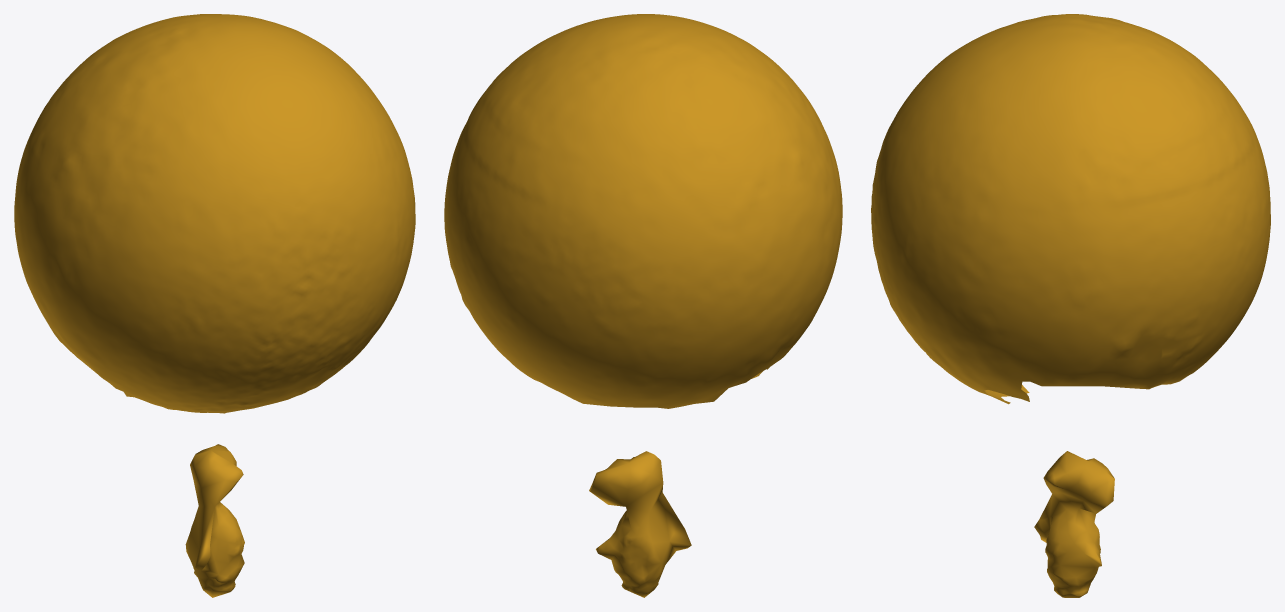
File: Gridtest_1_1_0.000001.obj
3 views of the same model, side by side, from view 1: azimuth 30°, elevation 25°; view 2: azimuth 150°, elevation 25°; view 3: azimuth 270°, elevation 25° (orthographic).
Visible parts, largest first — view 1: ./Gridtest_1_1_0.000001; view 2: ./Gridtest_1_1_0.000001; view 3: ./Gridtest_1_1_0.000001.
Boxes of the visible parts, x1,y1,x2,y2 form: ./Gridtest_1_1_0.000001: (14,14,415,597); ./Gridtest_1_1_0.000001: (444,14,842,597); ./Gridtest_1_1_0.000001: (871,14,1270,597).
Bounding box in the file's own units: 298 × 465 × 298.
